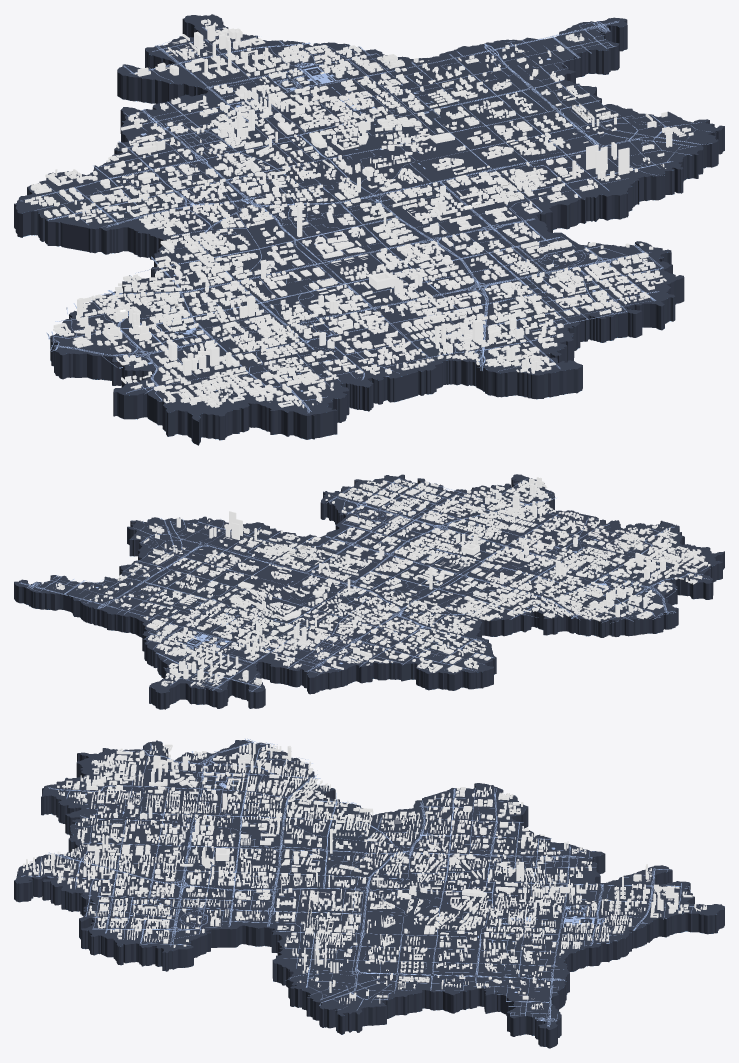
Rendered from beijing.glb.
3 renders of one model, top to bottom at view 1: azimuth 30°, elevation 25°; view 2: azimuth 150°, elevation 25°; view 3: azimuth 270°, elevation 25°, orthographic. The views are drawn at different scales.
Visible parts, largest first — view 1: 底层地图, 建筑, 道路; view 2: 底层地图, 建筑, 道路; view 3: 底层地图, 建筑, 道路.
Boxes of the visible parts, <box> form: 底层地图: <box>14,14,724,445</box>; 建筑: <box>25,19,693,408</box>; 道路: <box>20,20,712,412</box>; 底层地图: <box>14,474,724,709</box>; 建筑: <box>55,477,710,687</box>; 道路: <box>19,478,710,691</box>; 底层地图: <box>14,740,724,1048</box>; 建筑: <box>22,743,706,1009</box>; 道路: <box>21,738,694,1026</box>.
Size of what is drawn, in the model's own units: 7604 by 514 by 7842.
